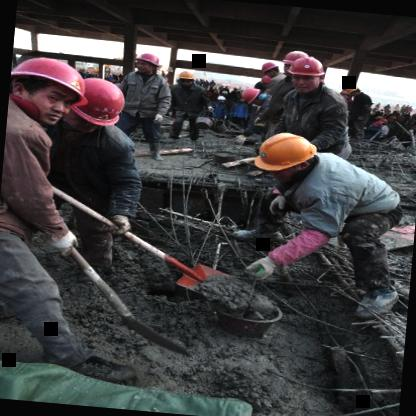helmet: (6, 50, 96, 133), (247, 125, 327, 185), (68, 75, 128, 134), (280, 51, 328, 92), (127, 47, 166, 78), (234, 85, 268, 110), (252, 58, 286, 80), (172, 68, 198, 90), (345, 82, 368, 100)
